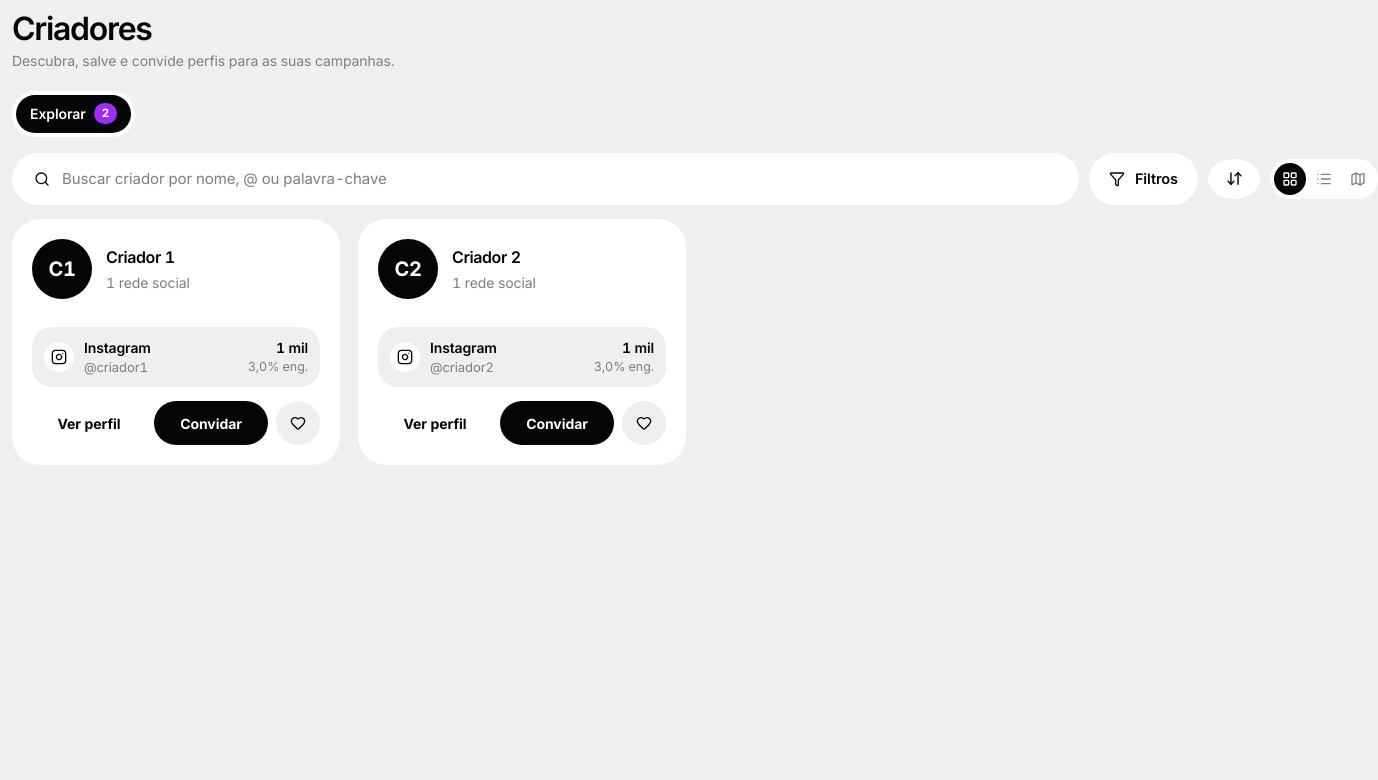
Criadores · entrar no mapa sem localização › continua oferecendo usar a localização (é o caminho de entrada do mapa)
The image size is (1378, 780).
Click the button named "Mapa". click: (1358, 179)
box: [1342,163,1374,195]
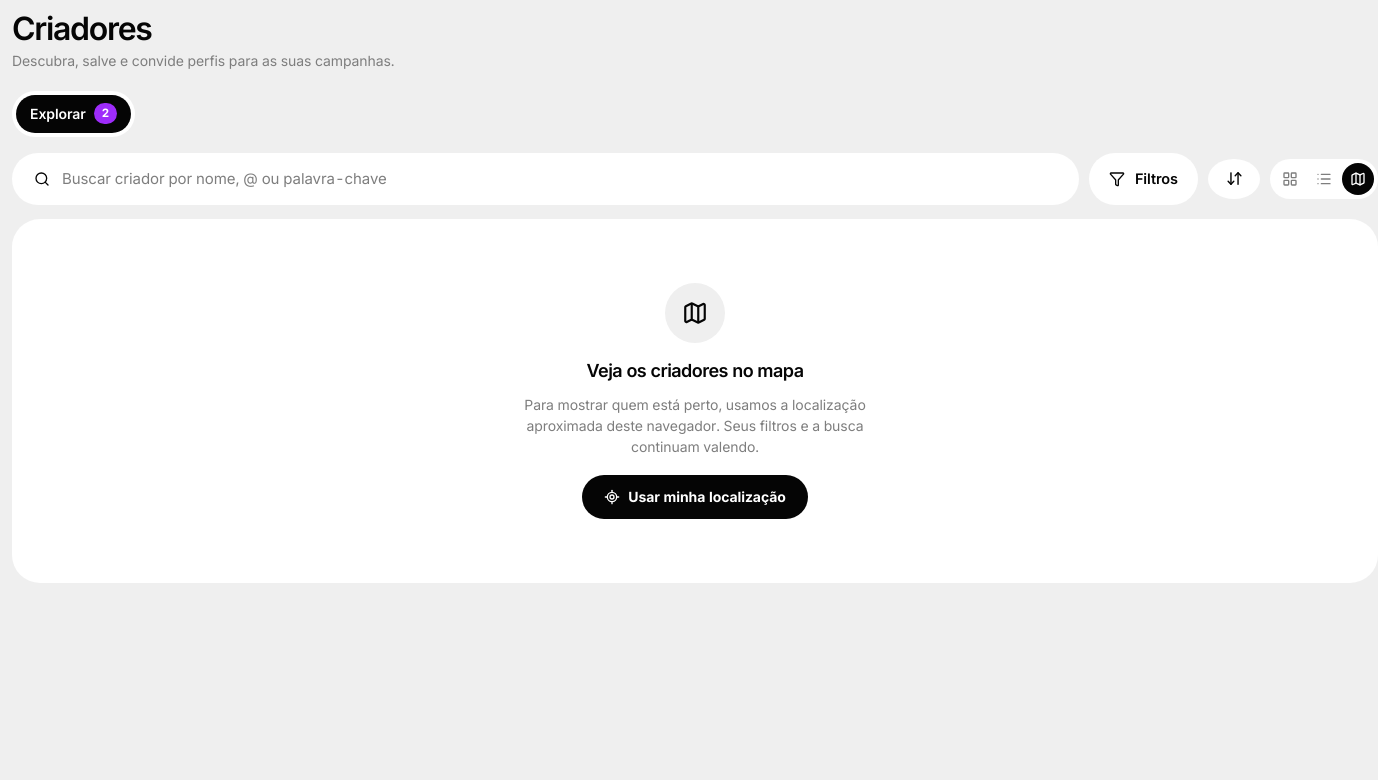
Expected: the text "Veja os criadores no mapa" is shown, [586,357,804,384]
Expected: the button "Usar minha localização" is shown, [582,475,808,519]
